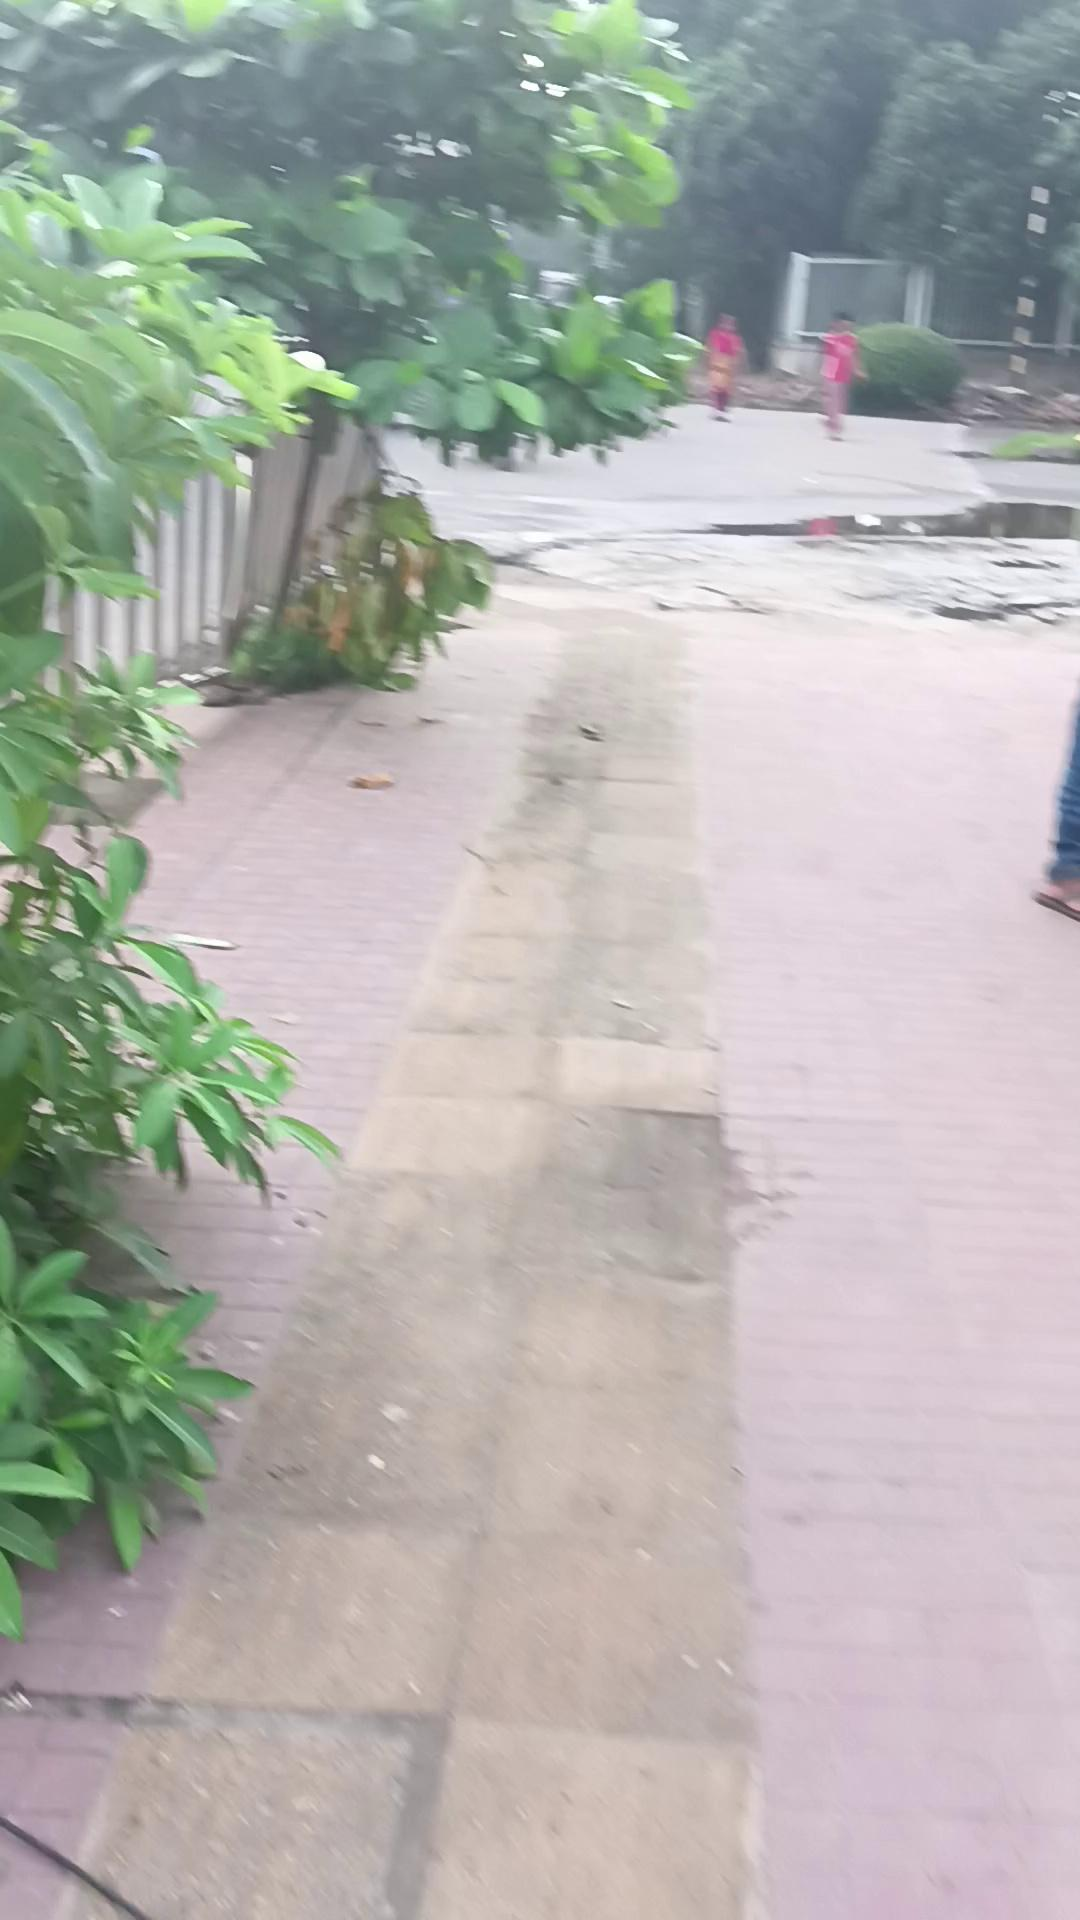Muddy road: (1031, 684, 1079, 913), (816, 309, 868, 440), (704, 313, 746, 421)
Potted-plant: (8, 521, 1080, 1915)
Railroad-crossing: (679, 487, 1080, 644)
